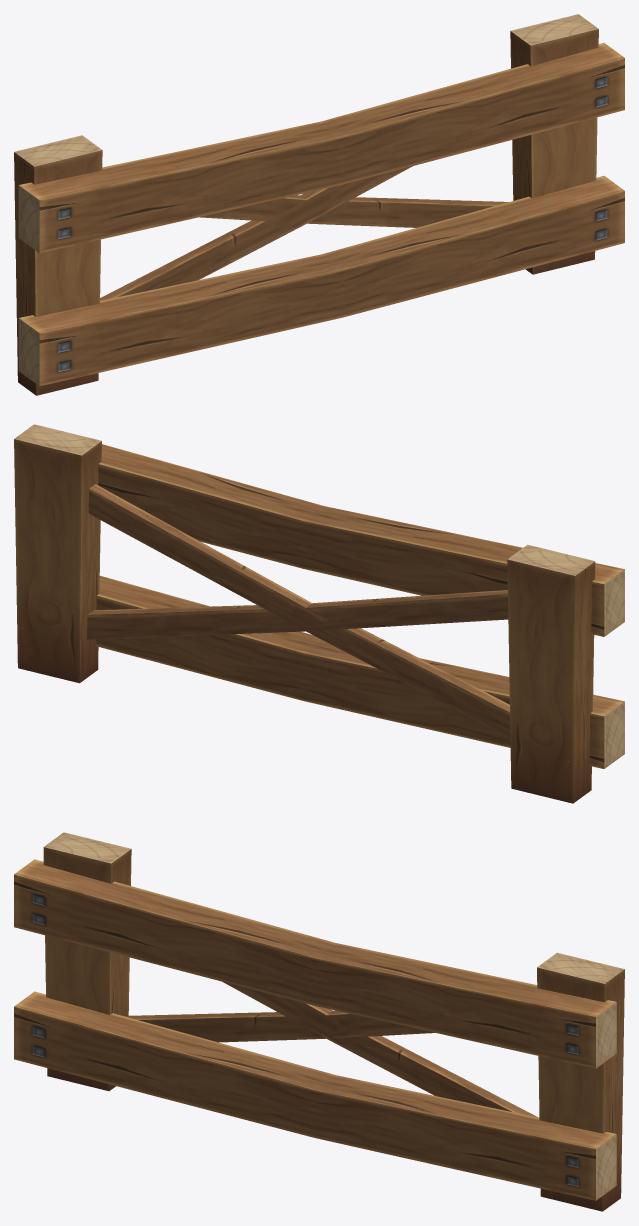
Rendered from wooden_fence_05.fbx.
3 views of the same model, one above another, from view 1: azimuth 30°, elevation 25°; view 2: azimuth 150°, elevation 25°; view 3: azimuth 330°, elevation 25° (orthographic).
Parts seen in each view (by area): view 1: wooden_fence_05:Mesh; view 2: wooden_fence_05:Mesh; view 3: wooden_fence_05:Mesh.
Part boxes in pixels (bbox=[...]): wooden_fence_05:Mesh: bbox=[14, 14, 624, 395]; wooden_fence_05:Mesh: bbox=[14, 424, 624, 803]; wooden_fence_05:Mesh: bbox=[14, 832, 624, 1211].
Size of the model in its own units: 7.37 by 2.77 by 0.8229.
